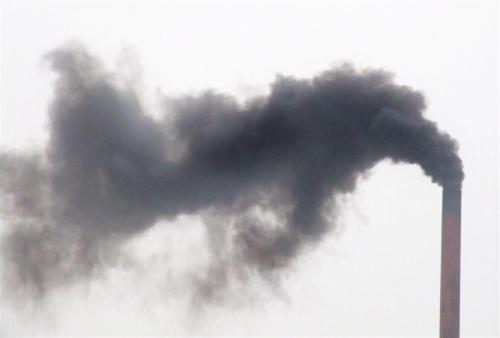smoke: (27, 58, 466, 185)
